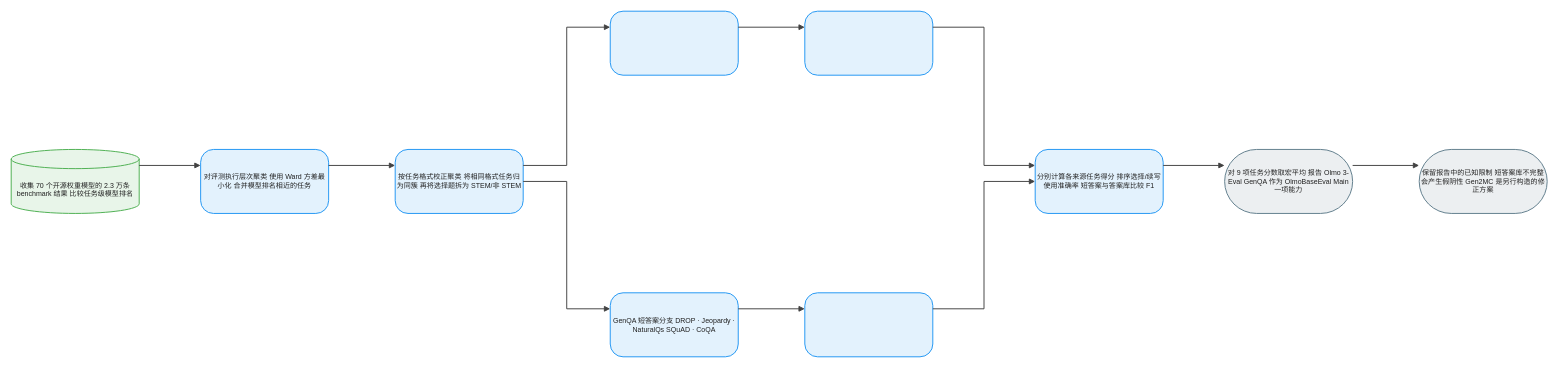
Some shapes in this 1559 by 369 pixel diagram are drawn without their labels. The shapes that lost their labels are listed below. From the top down, each one's centre as x and y in pixels, then its label:
[673,42]: GenQA 排序选择/续写分支 HellaSwag · WinoGrande · LAMBADA BasicSkills（6 个子任务）
[868,42]: 运行排序选择/续写评测 多数 5-shot；LAMBADA 为 0-shot 按各任务定义归一化似然
[868,324]: 生成短答案 除内置 0-shot CoQA 外均为 5-shot 温度 0 · top-p 1 · 最多 50/100 tokens
